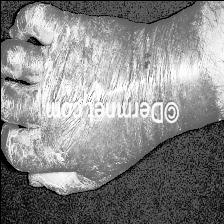Non-Cancerous Skin Condition: (4, 12, 214, 138)
